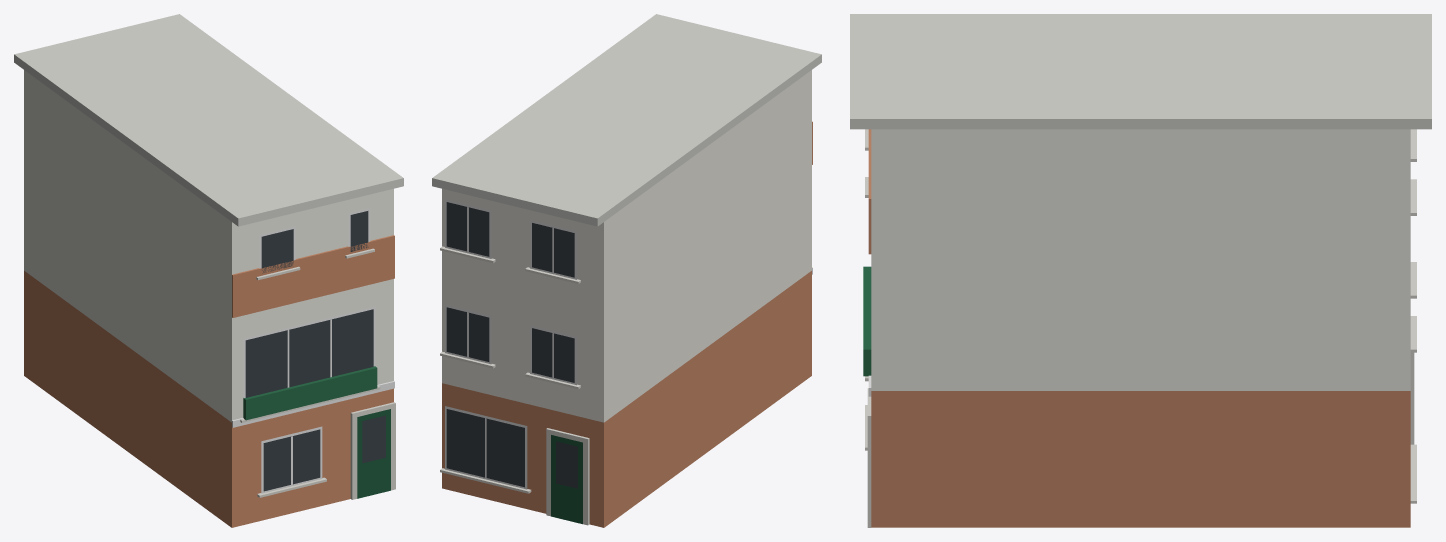
File: nw-os-tretjakov__green__3__flat__long__solid__mirror.glb
The picture shows the model from 3 angles, left to right: view 1: azimuth 30°, elevation 25°; view 2: azimuth 150°, elevation 25°; view 3: azimuth 270°, elevation 25°; orthographic projection. The views are drawn at different scales.
Visible parts, largest first — view 1: nw-os-tretjakov__green__3__flat__long__solid__mirror; view 2: nw-os-tretjakov__green__3__flat__long__solid__mirror; view 3: nw-os-tretjakov__green__3__flat__long__solid__mirror.
Boxes of the visible parts, x1=… form: nw-os-tretjakov__green__3__flat__long__solid__mirror: x1=14, y1=14, x2=403, y2=527; nw-os-tretjakov__green__3__flat__long__solid__mirror: x1=432, y1=14, x2=821, y2=527; nw-os-tretjakov__green__3__flat__long__solid__mirror: x1=850, y1=14, x2=1431, y2=527.
Bounding box in the file's own units: 4.66 × 8.5 × 10.93.
